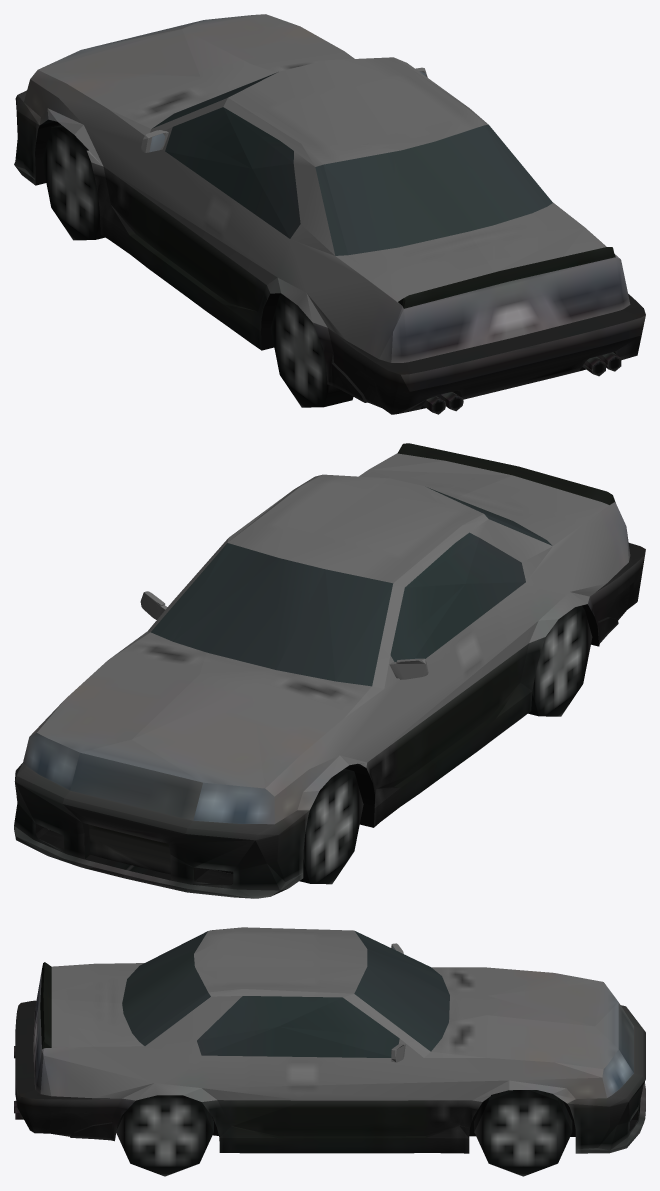
Rendered from car1.glb.
3 renders of one model, top to bottom at view 1: azimuth 30°, elevation 25°; view 2: azimuth 150°, elevation 25°; view 3: azimuth 270°, elevation 25°, orthographic. The views are drawn at different scales.
Visible parts, largest first — view 1: car1_Material01_0; view 2: car1_Material01_0; view 3: car1_Material01_0.
Part boxes in pixels (bbox=[...]): car1_Material01_0: bbox=[14, 14, 645, 414]; car1_Material01_0: bbox=[14, 443, 645, 898]; car1_Material01_0: bbox=[14, 927, 645, 1176].
Size of the model in its own units: 1.53 by 1.11 by 3.74.
Materials: 1 (1 with a texture image).
